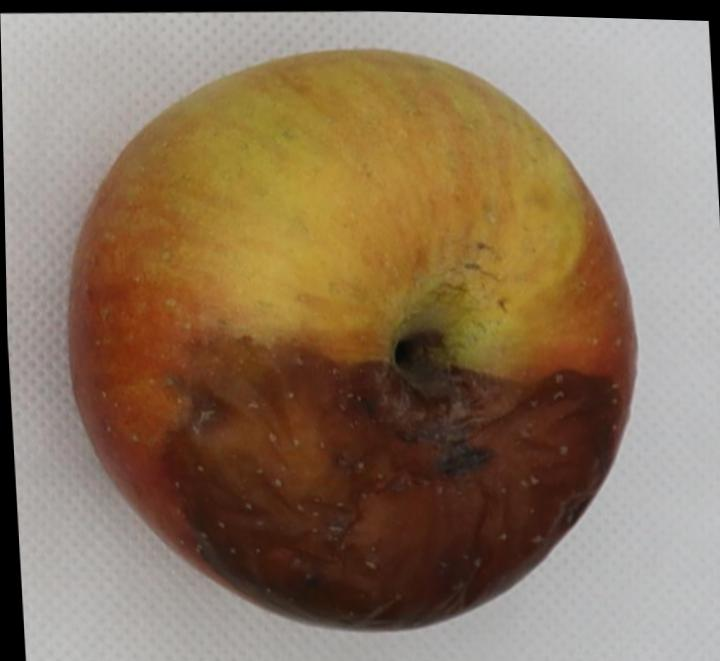apple: (70, 50, 636, 629)
rot_mold_decay: (165, 339, 621, 628)
